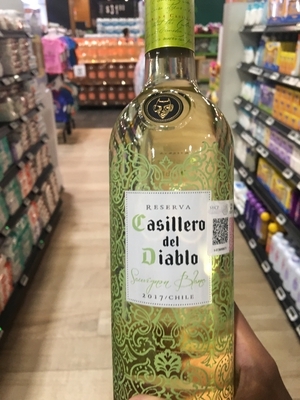casillero del diablo sauvignon blanc: (102, 10, 249, 400)
